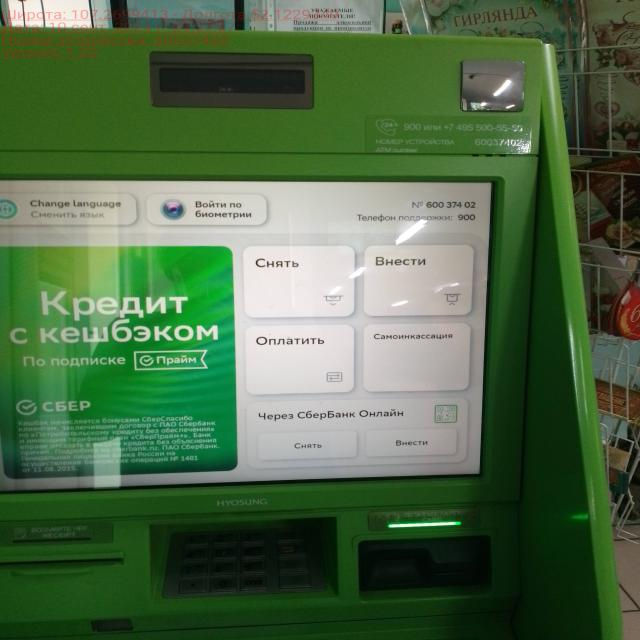bank: (0, 23, 629, 640)
